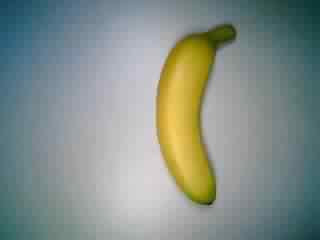banana: (152, 24, 236, 203)
